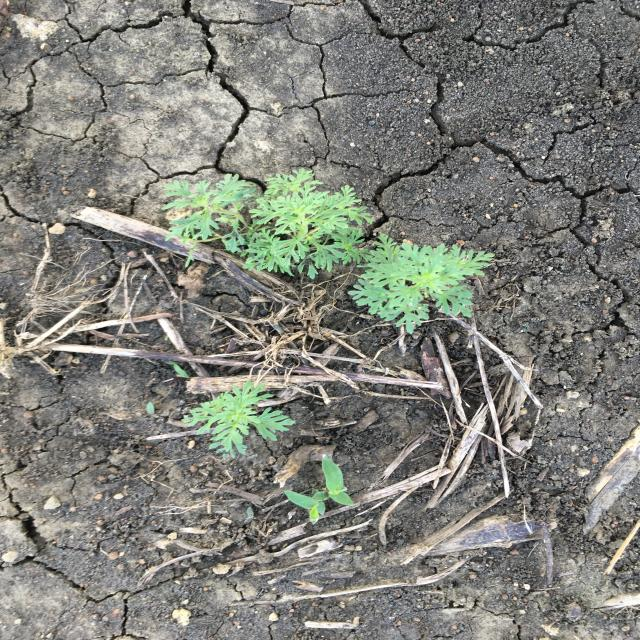Ragweed: (156, 166, 378, 281), (346, 233, 498, 334), (180, 380, 298, 458)
